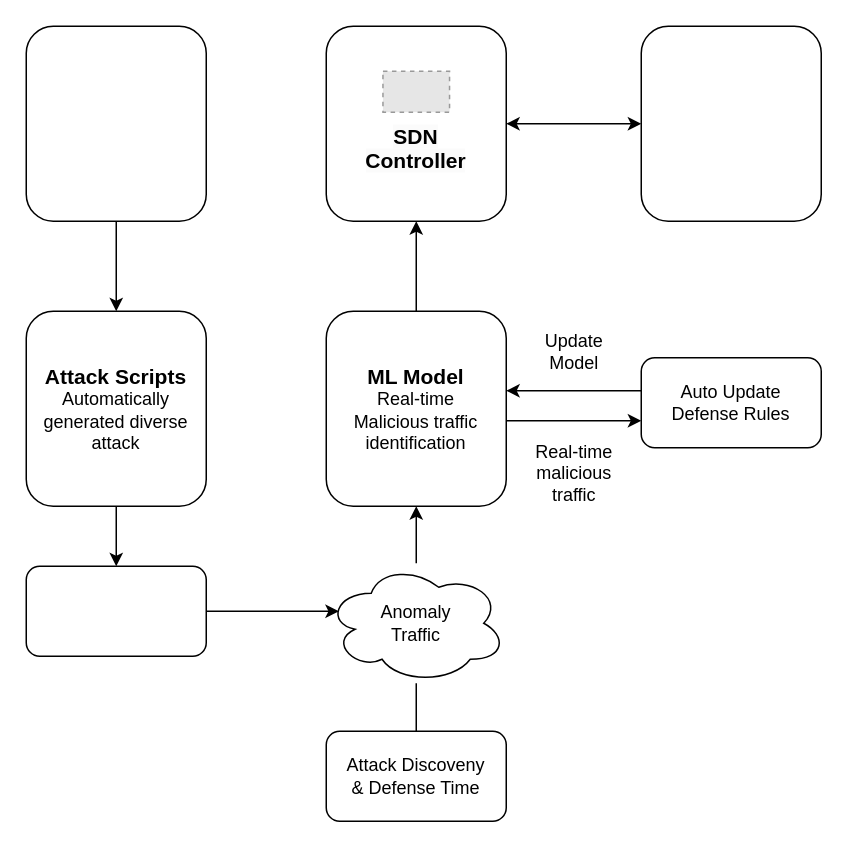
The diagram is 848 pixels wide and 848 high, and some of its shapes have lost their labels. Grey dashed boxes stand in for pictures. Here are the shapes that lost their labels. From the top down, the box of each, then its label:
(25, 25, 206, 221): AI MODEL ChatGPT Claude Grok AI Gemini DeepSeek
(640, 25, 821, 221): Auto Update Flow Rules
(25, 565, 206, 656): Mininet
